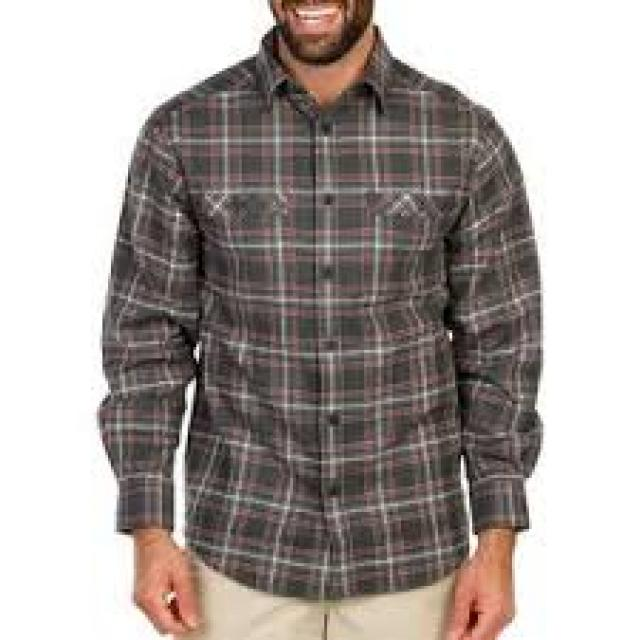plaid: (86, 44, 545, 567)
